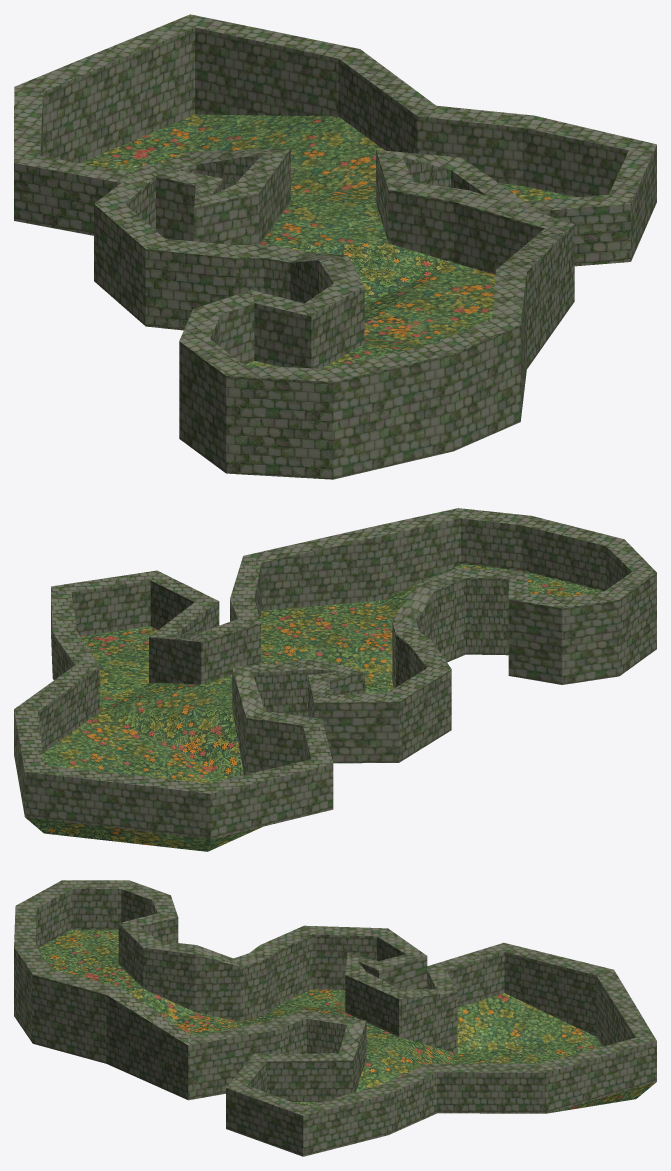
The model's file is maptest.glb.
3 renders of one model, top to bottom at view 1: azimuth 30°, elevation 25°; view 2: azimuth 150°, elevation 25°; view 3: azimuth 270°, elevation 25°, orthographic. The views are drawn at different scales.
Visible parts, largest first — view 1: TestArea-col; view 2: TestArea-col; view 3: TestArea-col.
Boxes of the visible parts, bbox=[...] form: TestArea-col: bbox=[14, 14, 656, 479]; TestArea-col: bbox=[14, 508, 656, 851]; TestArea-col: bbox=[14, 880, 656, 1156].
Size of the model in its own units: 29 by 5.84 by 37.96.
Materials: 3 (3 with a texture image).
